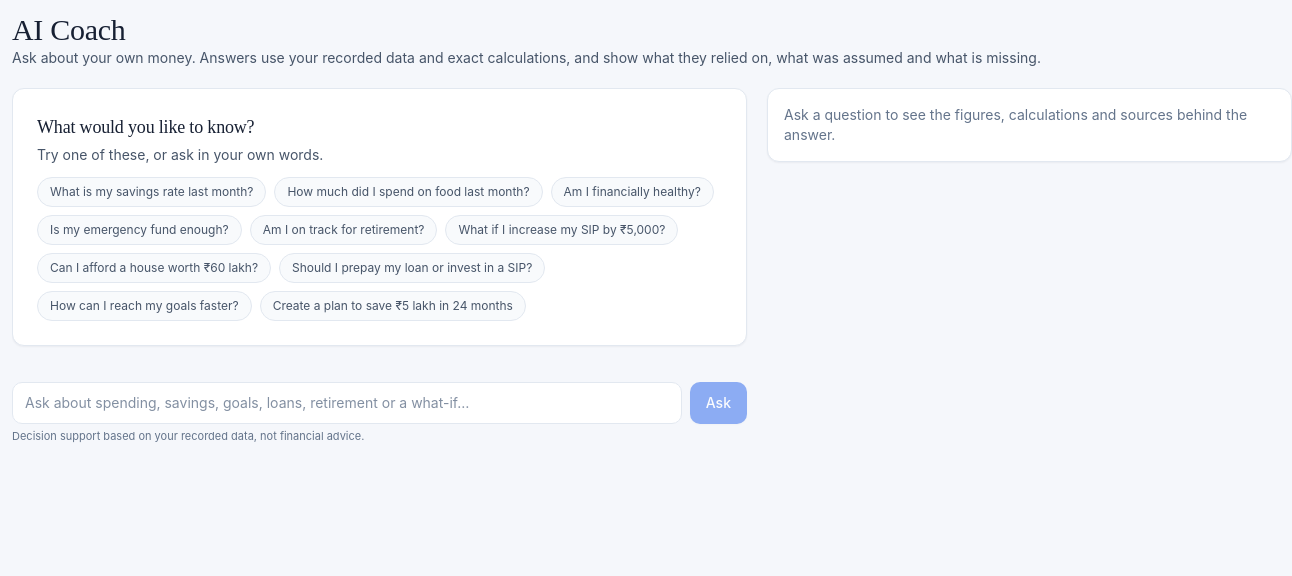
Coach page › shows a retryable error and keeps the typed question when the Coach fails
Step 1. Replace the text in the field named "Ask the Coach" with "What is my savings rate?" → [347, 403], box [12,382,682,424]
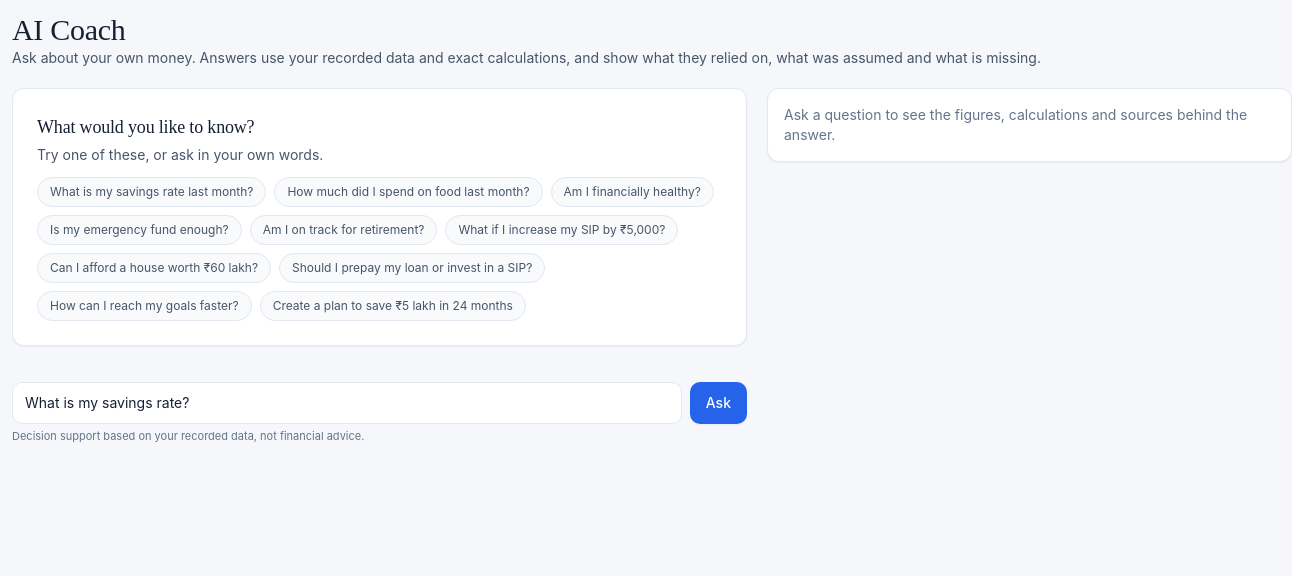
Step 2. Submit the form named "Ask the Coach", box [12,370,747,456]
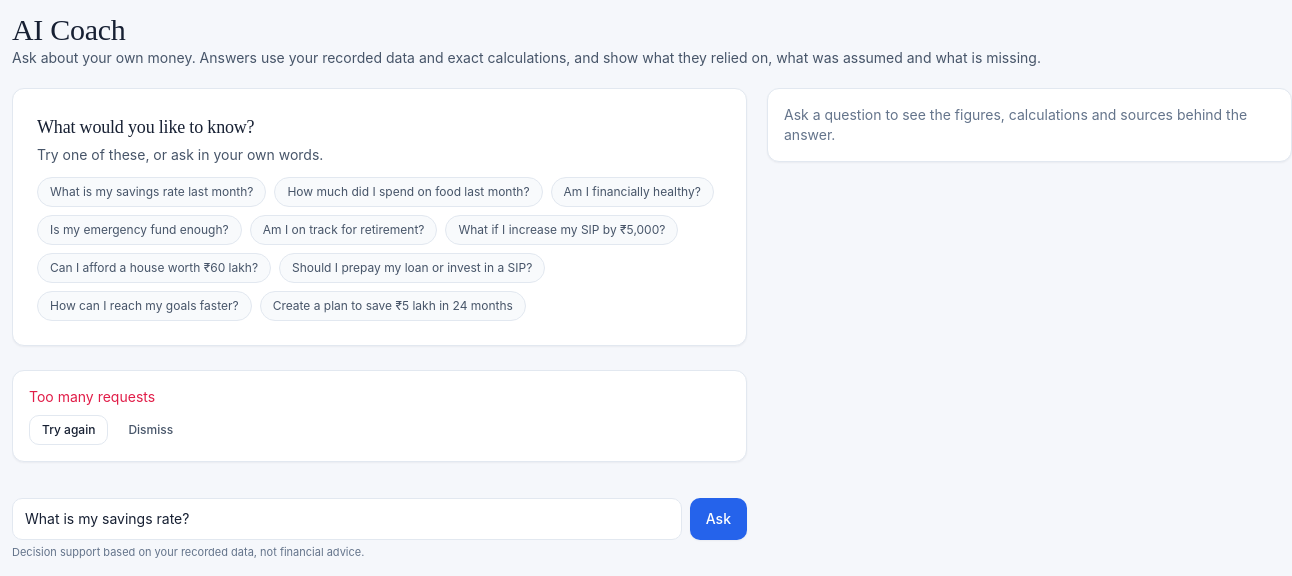
Now the message shows "Too many requests", box [29,388,155,405]
Step 3. Click the button "Try again" → [69, 430], box [29,415,108,445]
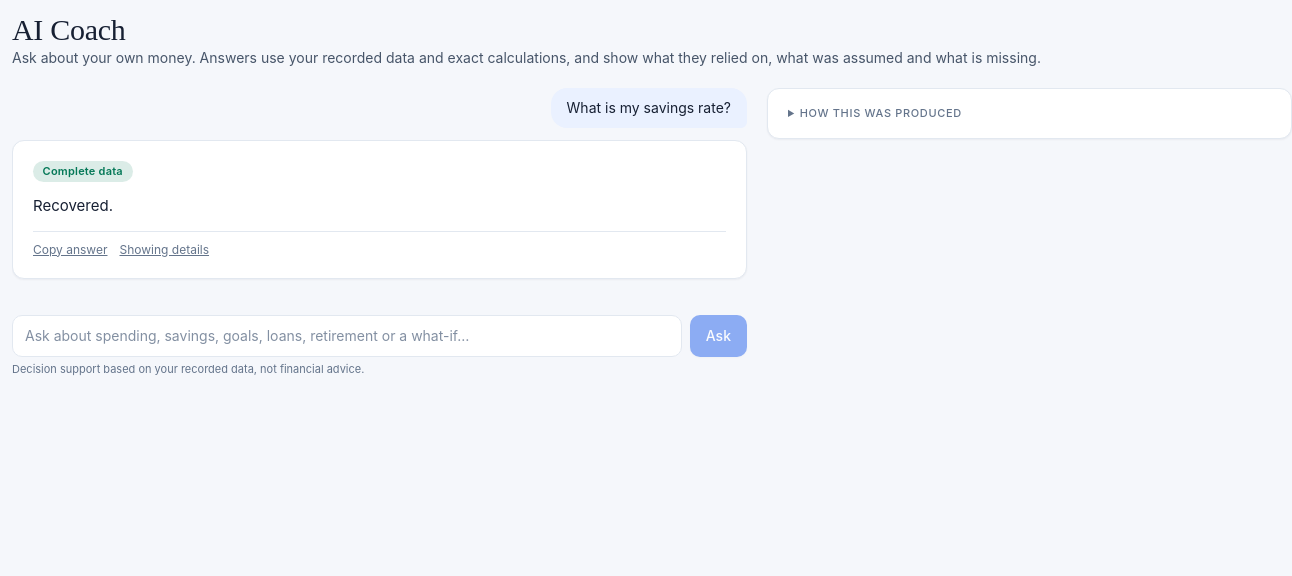
Now the text "Recovered." is shown, box [33,196,113,215]
